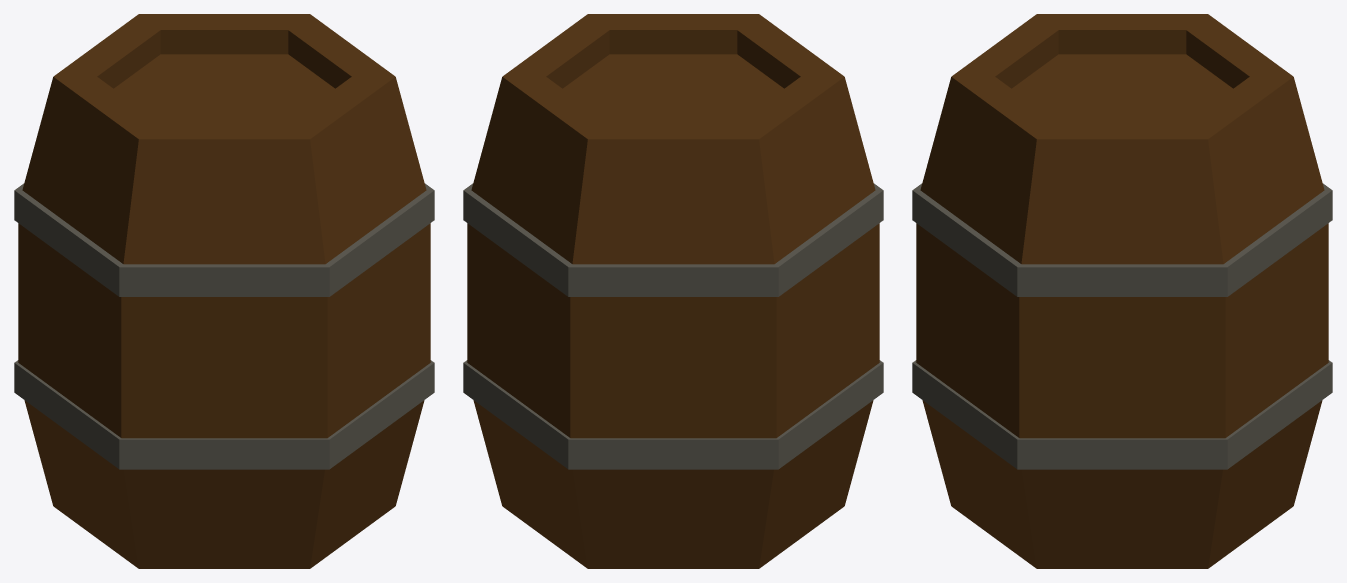
File: FarmBarrel.fbx
3 views of the same model, side by side, from view 1: azimuth 30°, elevation 25°; view 2: azimuth 150°, elevation 25°; view 3: azimuth 270°, elevation 25° (orthographic).
Visible parts, largest first — view 1: FarmBarrel; view 2: FarmBarrel; view 3: FarmBarrel.
Part boxes in pixels (left/top/right/bottom): FarmBarrel: left=14, top=14, right=434, bottom=568; FarmBarrel: left=463, top=14, right=883, bottom=568; FarmBarrel: left=912, top=14, right=1332, bottom=568.
Bounding box in the file's own units: 0.1487 × 0.1938 × 0.1718.
